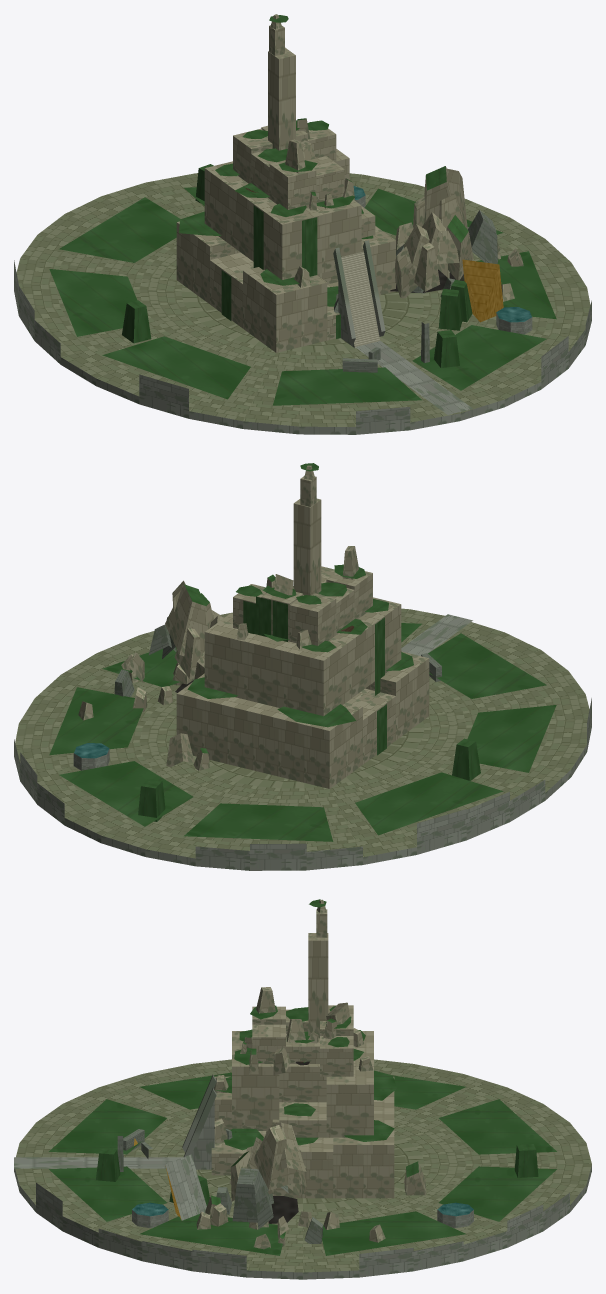
File: pyramid_small_destroyed_lod0.glb
3 renders of one model, top to bottom at view 1: azimuth 30°, elevation 25°; view 2: azimuth 150°, elevation 25°; view 3: azimuth 270°, elevation 25°, orthographic. The views are drawn at different scales.
Visible parts, largest first — view 1: pyramid_small_destroyed_lod0; view 2: pyramid_small_destroyed_lod0; view 3: pyramid_small_destroyed_lod0.
Boxes of the visible parts, x1,y1,x2,y2 form: pyramid_small_destroyed_lod0: [14, 14, 591, 434]; pyramid_small_destroyed_lod0: [14, 463, 591, 870]; pyramid_small_destroyed_lod0: [14, 899, 591, 1279].
Bounding box in the file's own units: 1.7 × 0.9948 × 1.91.
Materials: 1 (1 with a texture image).
